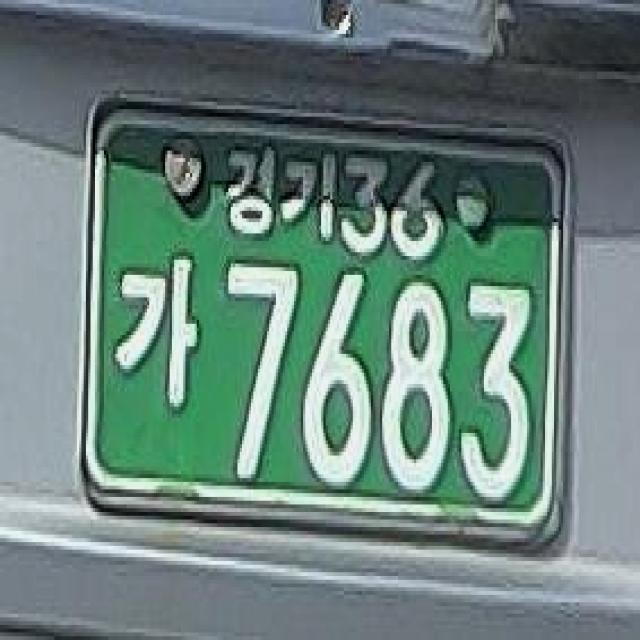illegal_plate: (68, 88, 590, 572)
